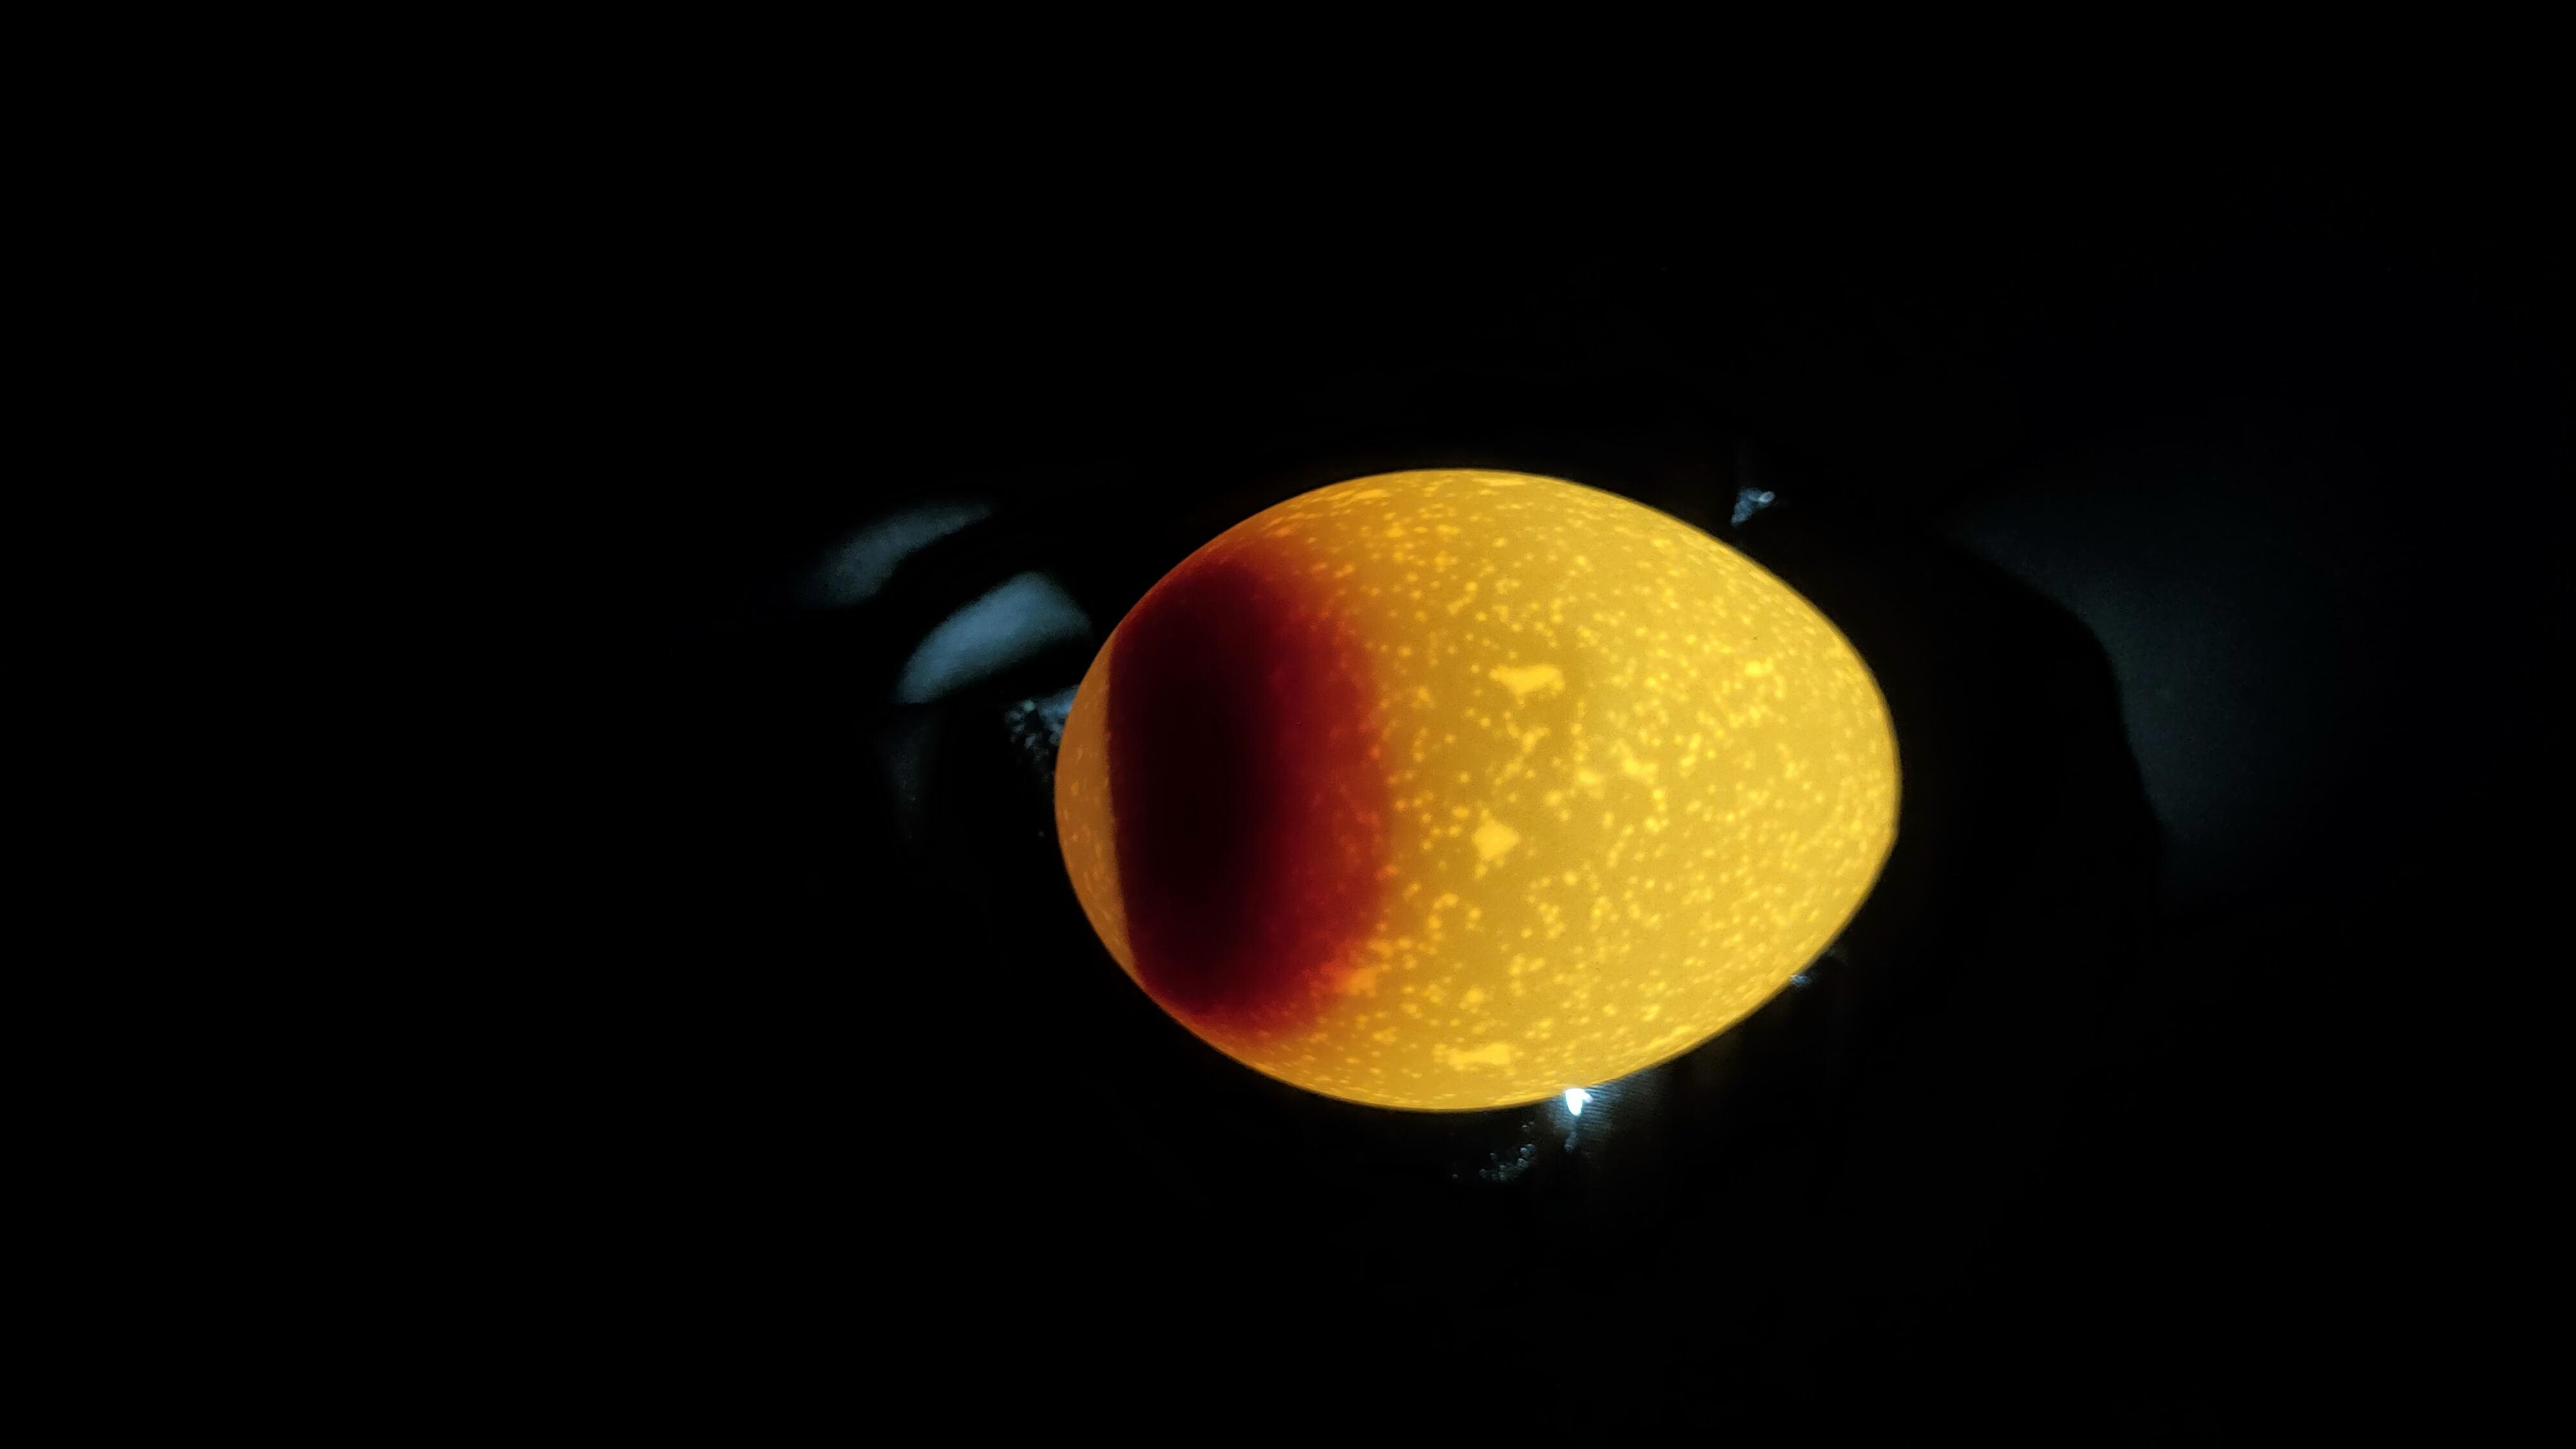AA - Premium: (791, 356, 2038, 895)
